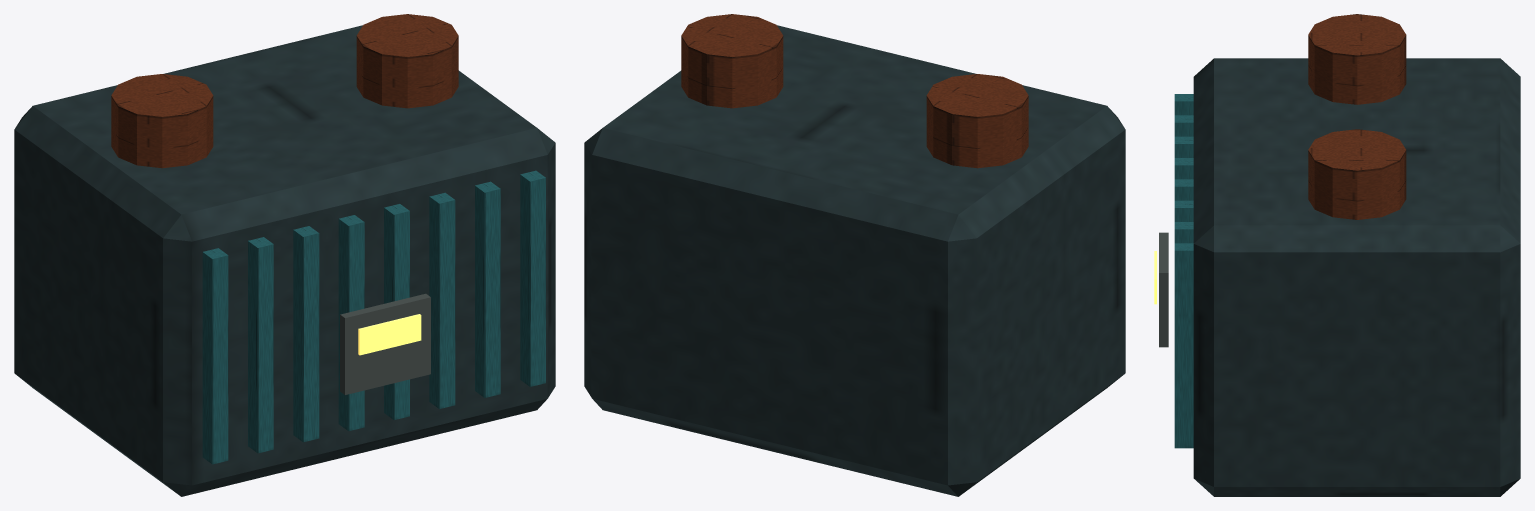
The model's file is generator.glb.
3 renders of one model, left to right at view 1: azimuth 30°, elevation 25°; view 2: azimuth 150°, elevation 25°; view 3: azimuth 270°, elevation 25°, orthographic. The views are drawn at different scales.
Visible parts, largest first — view 1: generator_metal.006, generator_paint.006, generator_rust.006, generator_rubber.006, generator_orange.006; view 2: generator_metal.006, generator_rust.006; view 3: generator_metal.006, generator_rust.006, generator_paint.006, generator_rubber.006.
Part boxes in pixels (x1,y1,x2,y2): generator_metal.006: (14, 25, 555, 496); generator_paint.006: (202, 170, 545, 464); generator_rust.006: (111, 14, 458, 168); generator_rubber.006: (340, 293, 430, 394); generator_orange.006: (358, 314, 421, 355); generator_metal.006: (584, 25, 1125, 496); generator_rust.006: (681, 14, 1028, 168); generator_metal.006: (1193, 58, 1520, 496); generator_rust.006: (1308, 14, 1406, 219); generator_paint.006: (1174, 94, 1193, 448); generator_rubber.006: (1159, 232, 1168, 347).
Size of the model in its own units: 3.2 by 2.6 by 2.69.
5 materials, 3 textured.
